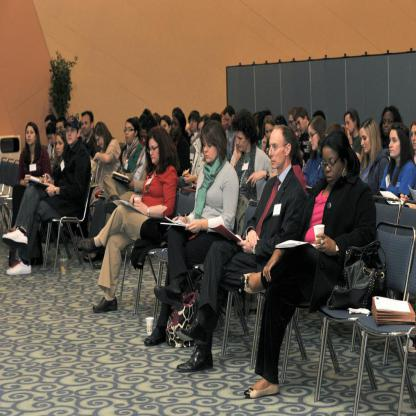face: (323, 147, 343, 186), (270, 133, 286, 170), (203, 138, 217, 163), (390, 131, 401, 157), (360, 131, 372, 154), (384, 113, 395, 138), (149, 140, 160, 164), (309, 127, 320, 151), (236, 129, 247, 152), (66, 124, 78, 145), (199, 122, 209, 144), (82, 116, 92, 136), (126, 124, 136, 144), (346, 116, 356, 135), (27, 127, 37, 145), (289, 115, 298, 134), (95, 134, 105, 150), (173, 117, 181, 137), (296, 118, 306, 134), (57, 137, 65, 156), (142, 129, 150, 148), (266, 125, 275, 141), (160, 122, 170, 136), (57, 124, 65, 141), (411, 125, 416, 151), (226, 114, 234, 130), (190, 117, 198, 132), (48, 134, 56, 147), (222, 112, 229, 126)
